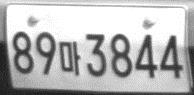3: (83, 33, 106, 77)
4: (159, 33, 183, 79), (135, 34, 158, 79)
8: (11, 30, 35, 74), (109, 33, 132, 77)
9: (34, 30, 57, 75)
마: (58, 41, 81, 76)
